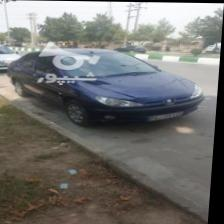plate: (147, 109, 186, 121)
